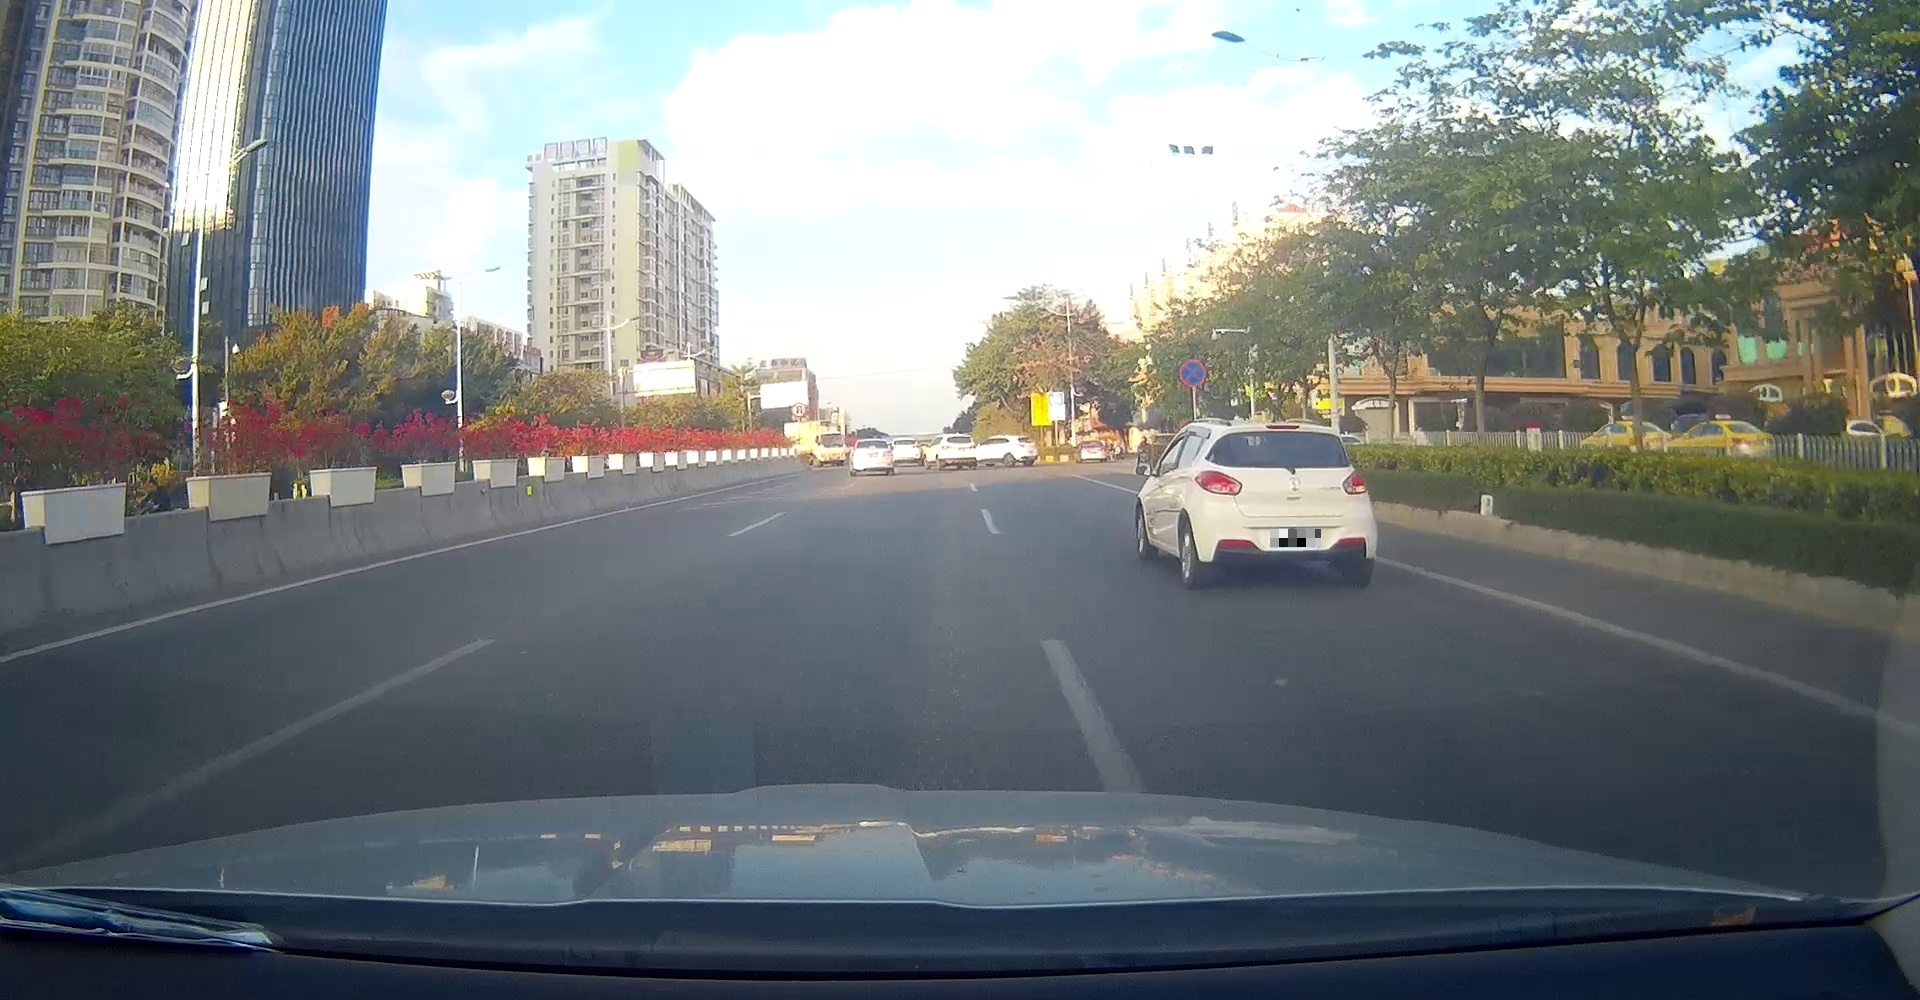L_light: (1192, 470, 1243, 495)
R_light: (1341, 470, 1368, 495)
T_light: (1266, 424, 1300, 429)
day-right: (1192, 423, 1378, 588)
plate_1: (1270, 529, 1321, 547)
